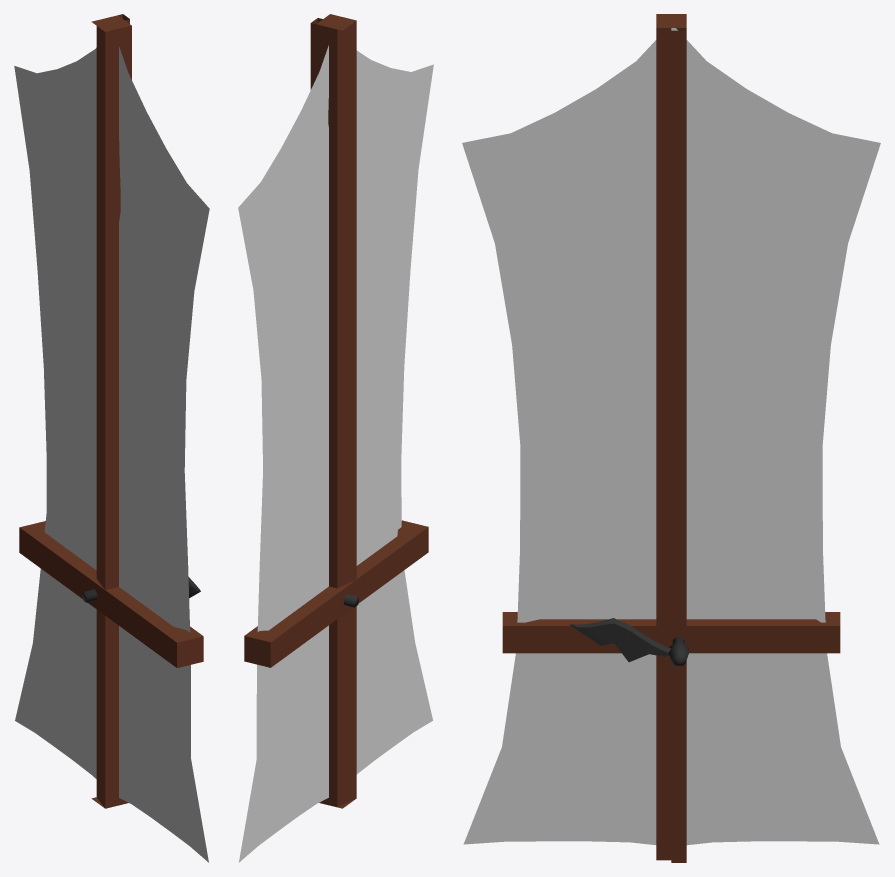
The model's file is window_inner.fbx.
3 renders of one model, left to right at view 1: azimuth 30°, elevation 25°; view 2: azimuth 150°, elevation 25°; view 3: azimuth 270°, elevation 25°, orthographic. The views are drawn at different scales.
Visible parts, largest first — view 1: Cube.032, Cube.034; view 2: Cube.032, Cube.034; view 3: Cube.032, Cube.034.
Boxes of the visible parts, x1,y1,x2,y2 form: Cube.032: (14,46,209,862); Cube.034: (19,14,203,808); Cube.032: (238,45,433,862); Cube.034: (244,14,428,808); Cube.032: (462,28,880,845); Cube.034: (502,14,840,862).
Bounding box in the file's own units: 37.25 × 337 × 154.
